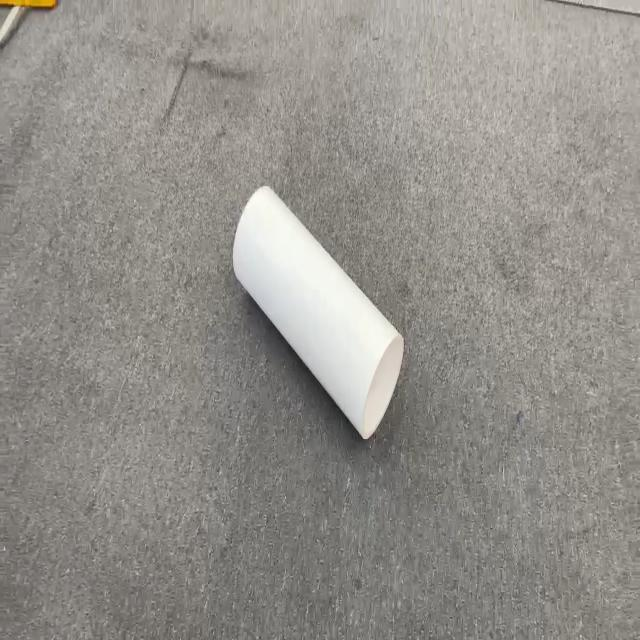coral: (232, 183, 404, 441)
